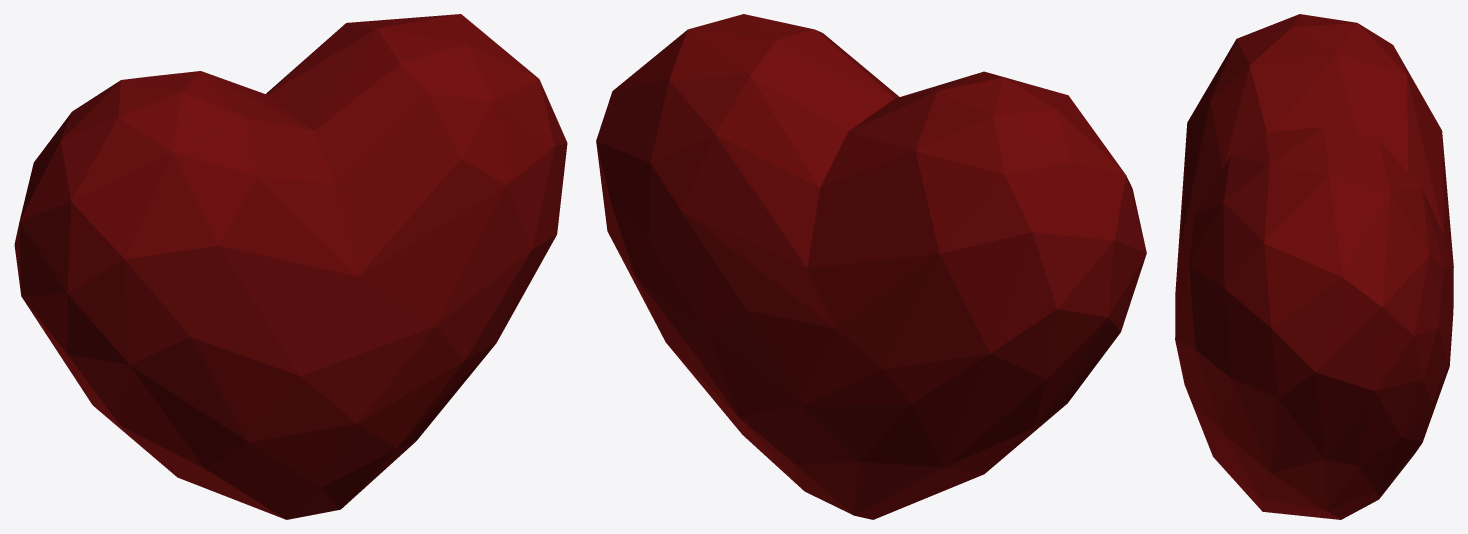
Rendered from Heart.obj.
3 views of the same model, side by side, from view 1: azimuth 30°, elevation 25°; view 2: azimuth 150°, elevation 25°; view 3: azimuth 270°, elevation 25° (orthographic). The views are drawn at different scales.
Parts seen in each view (by area): view 1: Object_3; view 2: Object_3; view 3: Object_3.
Boxes of the visible parts, x1,y1,x2,y2 form: Object_3: (14, 14, 567, 519); Object_3: (596, 14, 1146, 519); Object_3: (1175, 14, 1453, 519).
Bounding box in the file's own units: 3.17 × 2.65 × 1.56.
